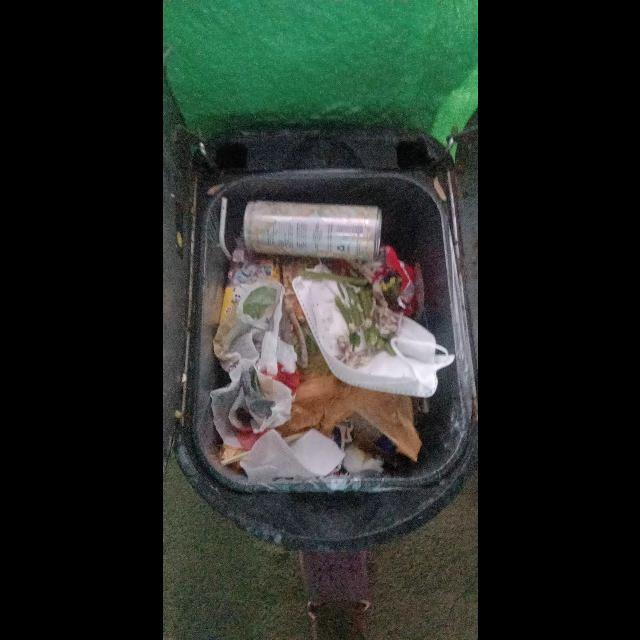aluminum: (242, 201, 381, 261)
plastic_bag: (273, 375, 422, 462)
